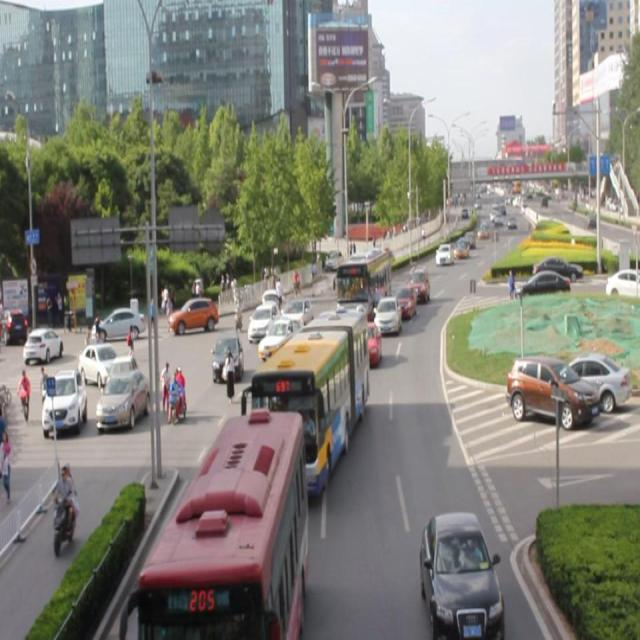car: (416, 509, 502, 640), (253, 363, 297, 423), (258, 318, 303, 359), (210, 331, 243, 379), (276, 293, 312, 336), (349, 320, 380, 365), (247, 298, 280, 340), (372, 294, 400, 335), (391, 284, 416, 320), (404, 267, 427, 301)
van: (137, 417, 307, 640), (254, 305, 365, 488), (337, 250, 390, 312)
